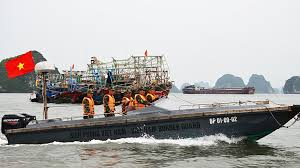tau_dansu: (15, 81, 294, 150), (37, 63, 175, 102), (181, 77, 259, 95)
